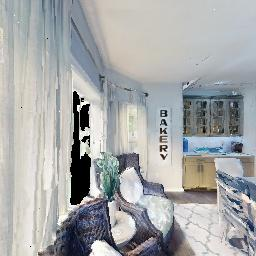sofa: (108, 147, 176, 256), (45, 187, 139, 256)
